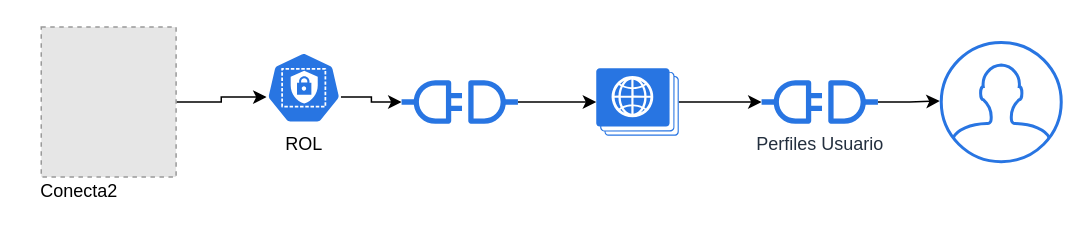
The diagram is 1089 pixels wide and 239 high, and some of its shapes have lost their labels. Grey dashed boxes stand in for pictures. Here are the shapes that lost their labels. From the top down, the centre of each, then its label:
At (459,101): "Rol Perfiles".
At (637,101): "Perfil".
